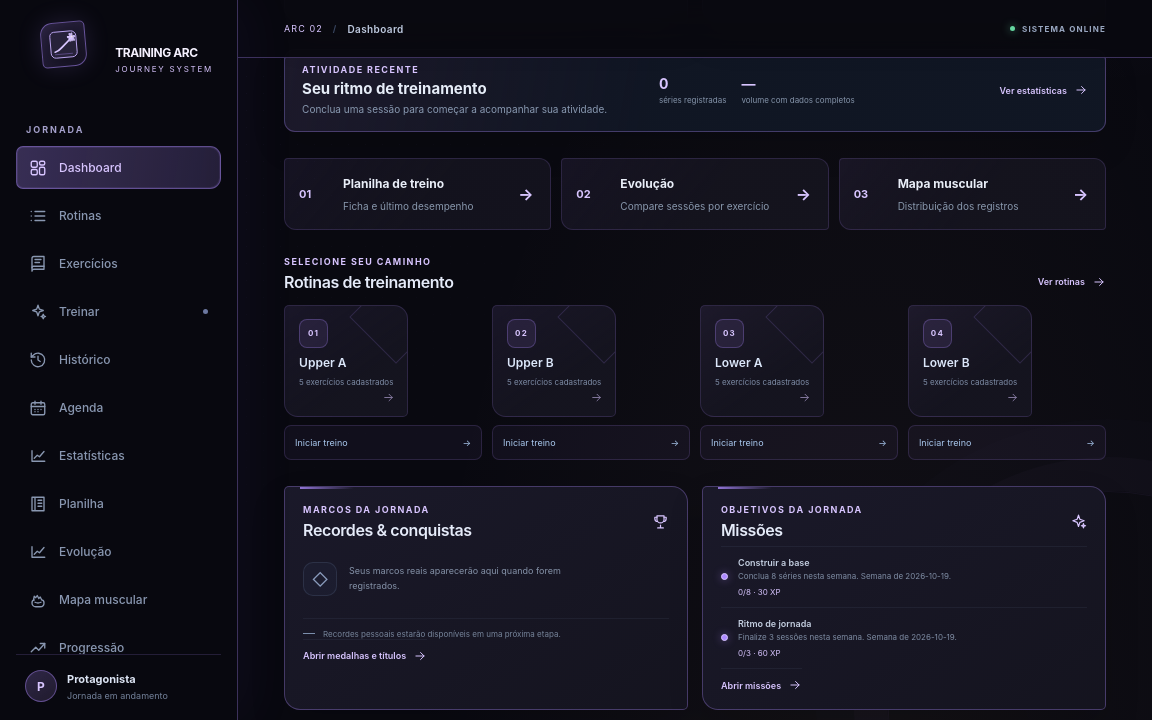
Test: routines flow › requires confirmation before deleting a routine
(page scrolled)
Click the button with aria-label "Abrir ficha Upper A" at (346, 361), box [284,305,408,417]
(page scrolled)
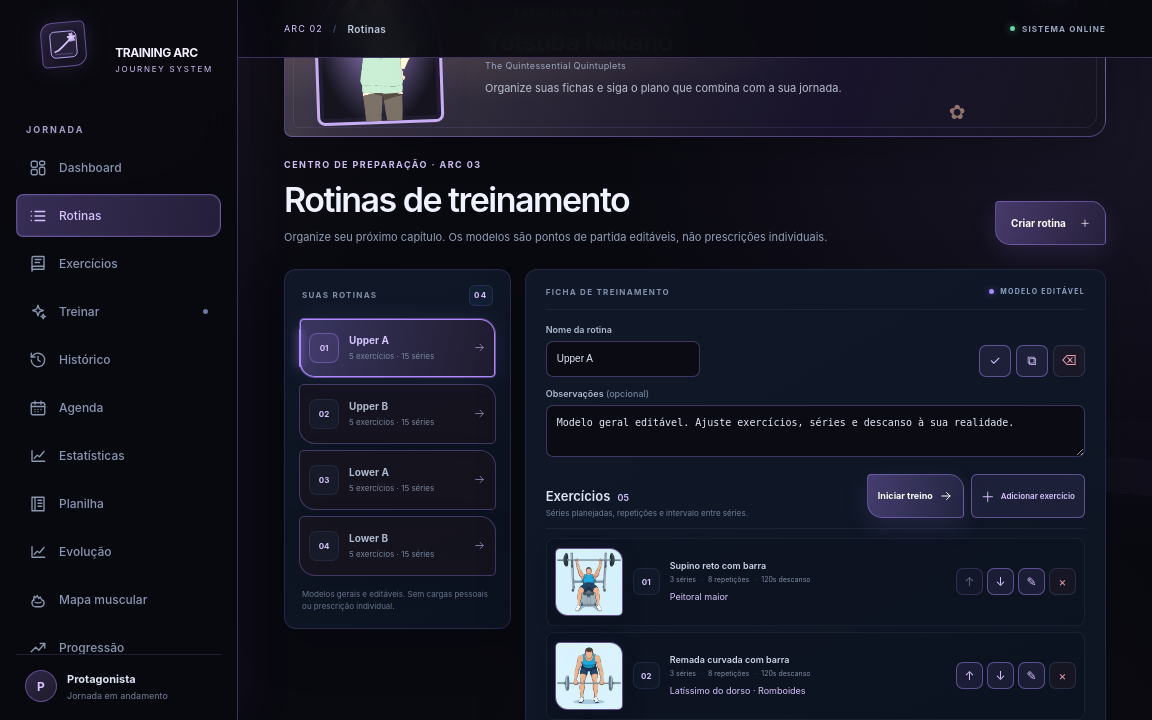
Click the button named "Excluir rotina" at (1069, 361), box [1053,345,1085,377]
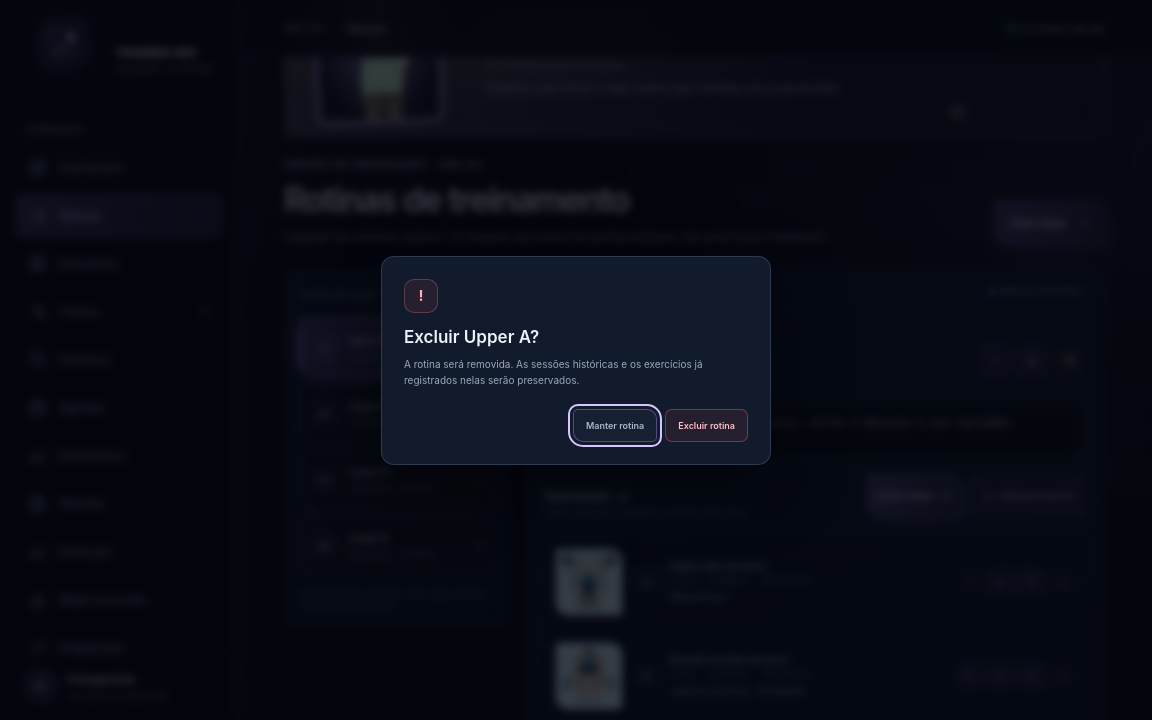
Click the button "Manter rotina" at (615, 425), box [573,408,657,442]
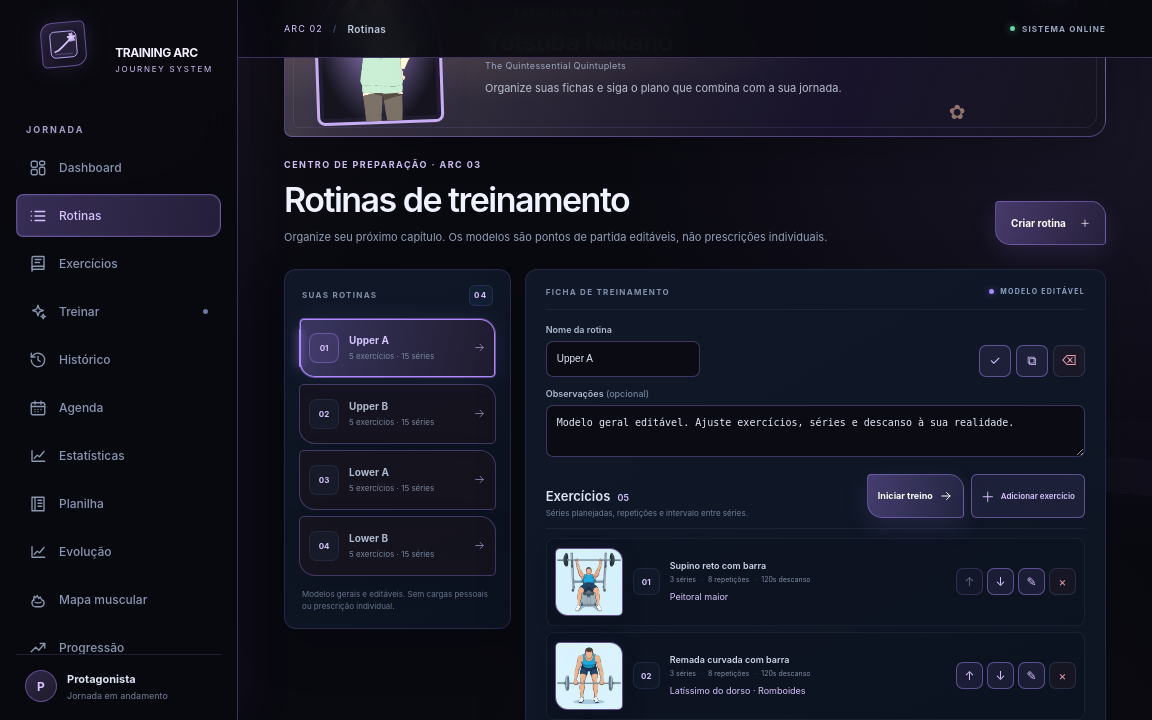
expect the field labelled "Nome da rotina" holds "Upper A": met, box [546,341,700,377]
Click the button named "Excluir rotina" at (1069, 361), box [1053,345,1085,377]
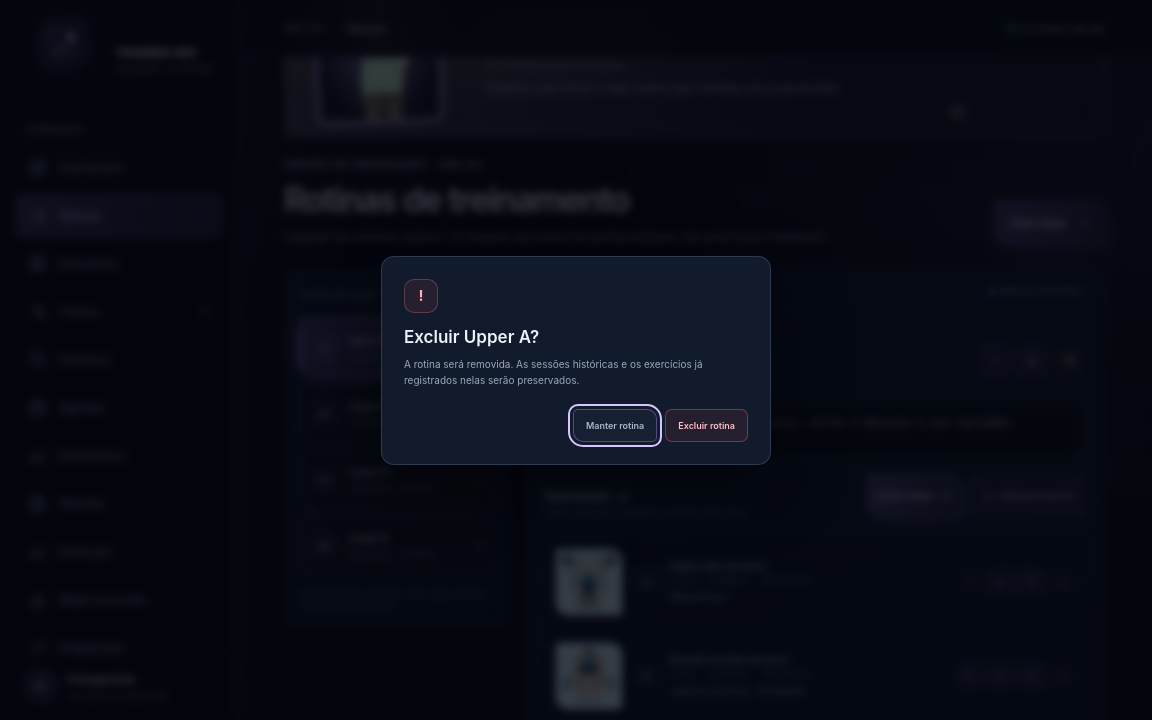
Click the button "Excluir rotina" at (707, 425), box [665,408,748,442]
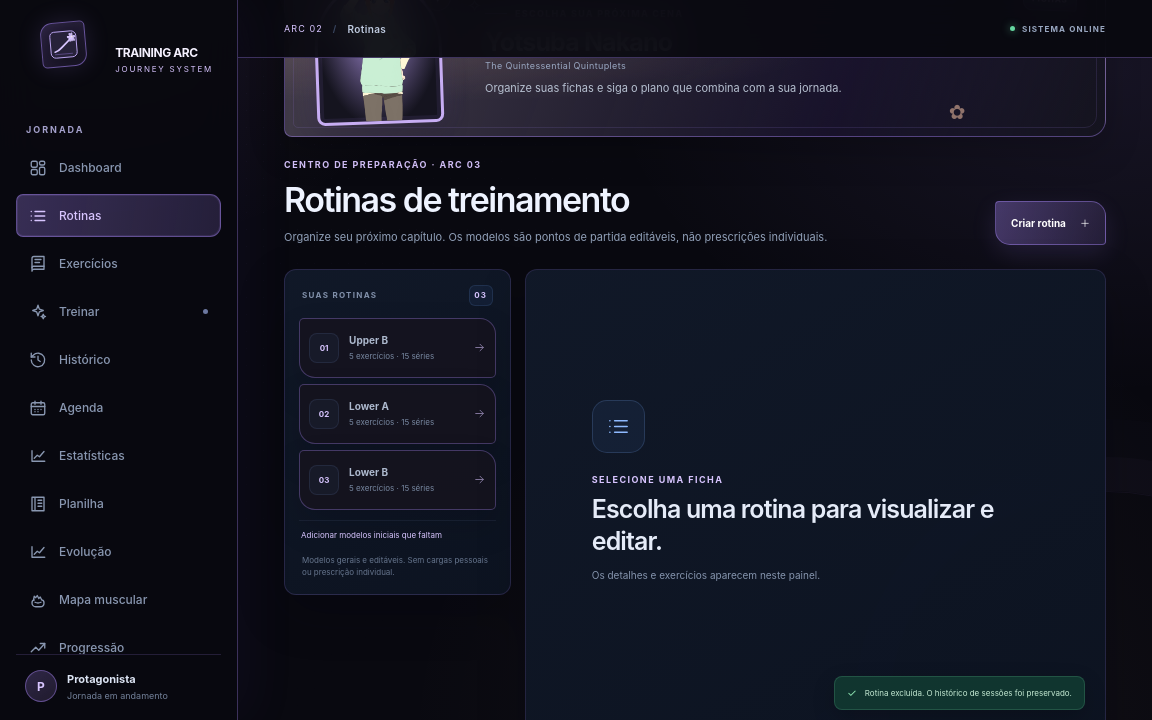
expect the heading "Escolha uma rotina para visualizar e editar." is shown: met, box [592,494,1022,557]
expect the button "Upper A" is gone: met
